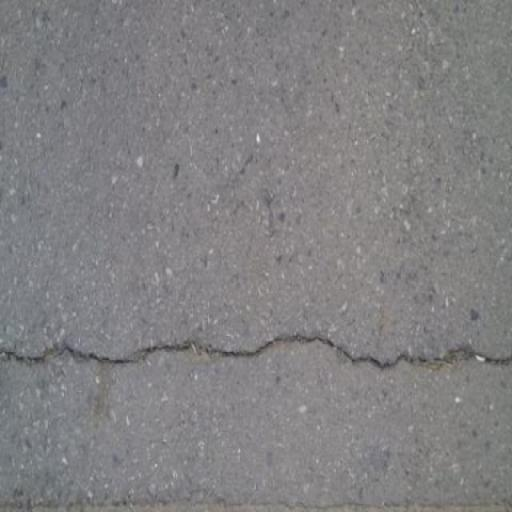severe crack: (0, 326, 512, 392)
